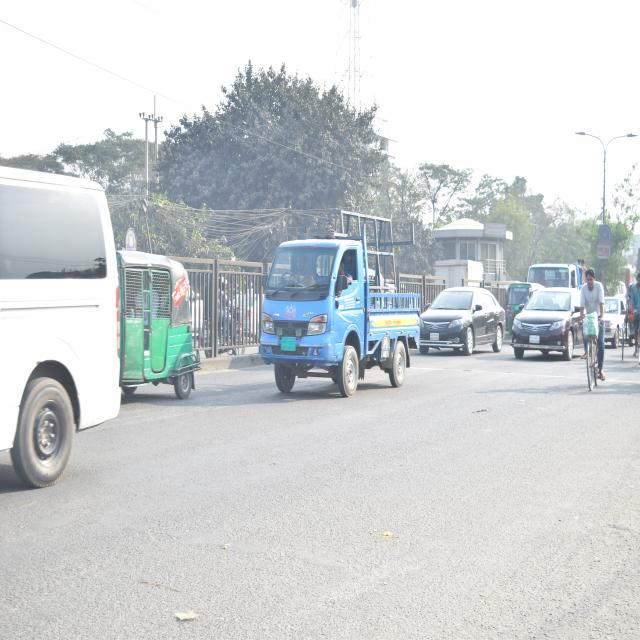car: (425, 287, 506, 356), (514, 281, 578, 362), (606, 280, 626, 360)
microbus: (0, 160, 122, 487)
motorbike: (202, 305, 249, 374)
pickup-van: (256, 238, 424, 402)
